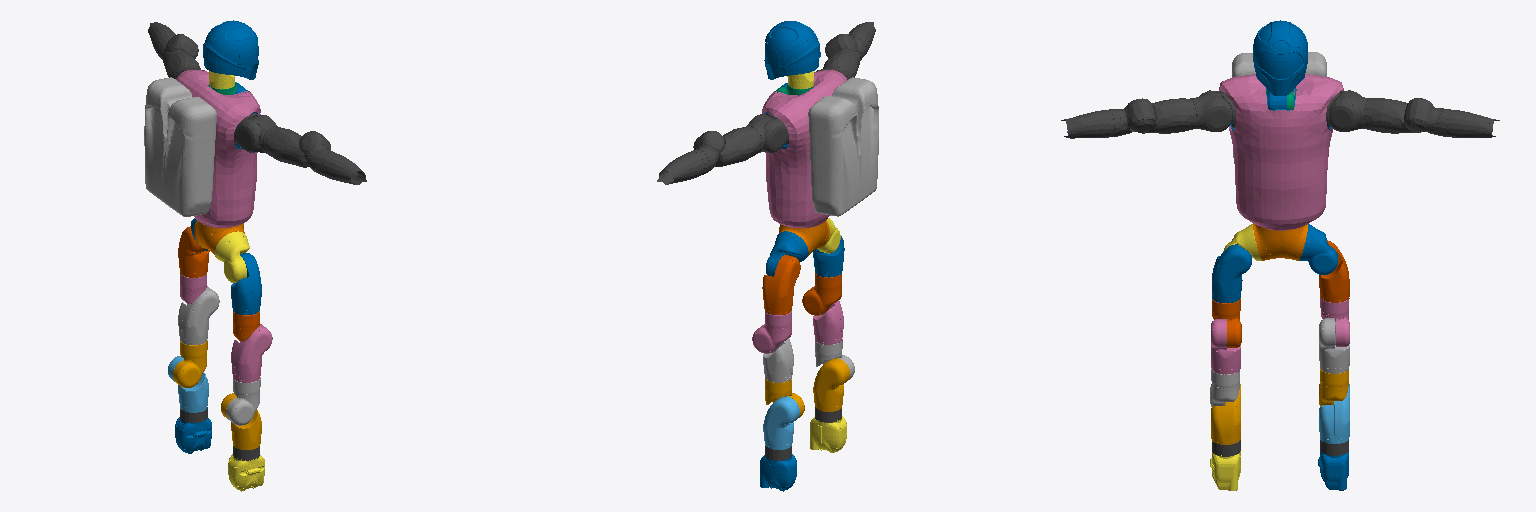
--- Render facts (derived) ---
3 views of the same robot in one strip: view 1: azimuth 30°, elevation 25°; view 2: azimuth 150°, elevation 25°; view 3: azimuth 270°, elevation 25° (orthographic).
Model r2 with 64 links and 63 joints (32 revolute, 31 fixed), rooted at r2/world_ref, posed all joints at 0 but 2 set to mid-range because 0 is outside their limits (r2/left_arm/joint2 = -2.42, r2/right_arm/joint2 = 2.42).
Links seen in each view (by area): view 1: r2/backpack, r2/body_cover, r2/head, r2/right_knee, r2/left_knee, r2/right_hip_pitch, r2/right_upper_arm, r2/right_hip_roll, r2/left_lower_leg, r2/right_lower_leg, r2/right_lower_arm, r2/left_hip_pitch (+11 smaller); view 2: r2/backpack, r2/body_cover, r2/head, r2/left_hip_pitch, r2/left_ankle_pitch, r2/right_ankle_pitch, r2/left_upper_arm, r2/left_lower_arm, r2/left_upper_leg, r2/right_upper_leg, r2/right_leg_foot, r2/left_leg_foot (+11 smaller); view 3: r2/body_cover, r2/head, r2/right_hip_pitch, r2/left_upper_arm, r2/right_upper_arm, r2/pelvis, r2/right_lower_arm, r2/left_lower_arm, r2/left_ankle_pitch, r2/left_knee, r2/right_shoulder_pitch, r2/right_ankle_pitch (+14 smaller).
Boxes of the visible links, x1,y1,x2,y2 form: r2/backpack: [144, 77, 216, 216]; r2/body_cover: [176, 70, 260, 227]; r2/head: [203, 20, 258, 79]; r2/right_knee: [231, 325, 272, 382]; r2/left_knee: [178, 287, 219, 344]; r2/right_hip_pitch: [231, 253, 261, 314]; r2/right_upper_arm: [262, 126, 330, 167]; r2/right_hip_roll: [215, 231, 249, 282]; r2/left_lower_leg: [173, 340, 207, 387]; r2/right_lower_leg: [226, 377, 260, 425]; r2/right_lower_arm: [315, 150, 366, 184]; r2/left_hip_pitch: [178, 226, 209, 277]; r2/backpack: [808, 77, 878, 216]; r2/body_cover: [762, 70, 846, 228]; r2/head: [764, 21, 820, 79]; r2/left_hip_pitch: [762, 255, 800, 314]; r2/left_ankle_pitch: [763, 396, 799, 449]; r2/right_ankle_pitch: [813, 358, 849, 411]; r2/left_upper_arm: [693, 126, 761, 166]; r2/left_lower_arm: [657, 149, 708, 184]; r2/left_upper_leg: [752, 311, 791, 353]; r2/right_upper_leg: [802, 273, 841, 315]; r2/right_leg_foot: [810, 416, 846, 452]; r2/left_leg_foot: [760, 454, 796, 491]; r2/body_cover: [1219, 74, 1343, 230]; r2/head: [1253, 20, 1307, 95]; r2/right_hip_pitch: [1212, 244, 1251, 302]; r2/left_upper_arm: [1364, 98, 1429, 133]; r2/right_upper_arm: [1130, 98, 1196, 133]; r2/pelvis: [1253, 223, 1307, 260]; r2/right_lower_arm: [1061, 109, 1120, 138]; r2/left_lower_arm: [1439, 109, 1499, 137]; r2/left_ankle_pitch: [1319, 384, 1349, 443]; r2/left_knee: [1319, 318, 1349, 373]; r2/right_shoulder_pitch: [1191, 92, 1231, 131]; r2/right_ankle_pitch: [1211, 384, 1240, 444].
Bounding box of the posed robot: 0.569 × 2 × 2.35 m (x, y, z).
31 mesh visuals loaded from 21 distinct referenced files (21 Collada DAE).

The robot description file, URDF, robot "r2":
<?xml version="1.0" ?>
<!-- =================================================================================== -->
<!-- |    This document was autogenerated by xacro from ./robots/r2b_dynamics.xacro    | -->
<!-- |    EDITING THIS FILE BY HAND IS NOT RECOMMENDED                                 | -->
<!-- =================================================================================== -->
<robot name="r2" xmlns:xacro="http://www.ros.org/wiki/xacro">
  <link name="r2/world_ref"/>
  <joint name="r2/fixed/world_ref/robot_world" type="fixed">
    <parent link="r2/world_ref"/>
    <child link="r2/robot_world"/>
    <origin rpy="0 0 0" xyz="0 0 0"/>
  </joint>
  <link name="r2/robot_world">
    <inertial>
      <mass value="0.01"/>
      <inertia ixx="0.0001" ixy="0.0" ixz="0.0" iyy="0.0001" iyz="0.0" izz="0.0001"/>
    </inertial>
  </link>
  <joint name="r2/fixed/robot_world/robot_base" type="fixed">
    <parent link="r2/robot_world"/>
    <child link="r2/robot_base"/>
    <origin rpy="0.0 3.14159 3.14159" xyz="0.0 0.0 0.0"/>
  </joint>
  <link name="r2/robot_base">
    <inertial>
      <mass value="0.01"/>
      <inertia ixx="0.0001" ixy="0.0" ixz="0.0" iyy="0.0001" iyz="0.0" izz="0.0001"/>
    </inertial>
  </link>
  <material name="white">
    <color rgba="1.0 1.0 1.0 1.0"/>
  </material>
  <material name="dirty_white">
    <color rgba="0.322 0.322 0.322 1.0"/>
  </material>
  <material name="gold">
    <color rgba=".878 .49 0.008 1"/>
  </material>
  <material name="steel">
    <color rgba=".7 .7 .7 1"/>
  </material>
  <material name="blue">
    <color rgba="0 0 0.8 1"/>
  </material>
  <joint name="r2/fixed/robot_base/waist_mass" type="fixed">
    <parent link="r2/robot_base"/>
    <child link="r2/waist_mass"/>
    <origin rpy="0.0 0 0.0" xyz="0.0 0.0 -0.086855"/>
  </joint>
  <link name="r2/waist_mass">
    <inertial>
      <mass value="4.6259465"/>
      <origin rpy="0.0 0 0.0" xyz="-0.00012809088 0.000041480778 0.039080994"/>
      <inertia ixx="0.01684448" ixy="0.00021529806" ixz="-0.0000036013959" iyy="0.017313387" iyz="0.0" izz="0.028769348"/>
    </inertial>
  </link>
  <joint name="r2/waist/joint0" type="revolute">
    <parent link="r2/robot_base"/>
    <child link="r2/waist_center"/>
    <axis xyz="0 0 1"/>
    <origin rpy="0.0 0 0.0" xyz="0.0 0.0 0.0"/>
    <dynamics damping="10.0" friction="0.0"/>
    <limit effort="10000000.0" lower="-3.14" upper="3.14" velocity="1000"/>
  </joint>
  <!--includes mass properties of all torso componenents-->
  <link name="r2/waist_center">
    <visual>
      <geometry>
        <mesh filename="package://r2_description/meshes/r2_upperbody/Body.dae"/>
      </geometry>
      <origin rpy="-1.5708 0 -1.5708" xyz="0.02 0.05 -0.5625"/>
    </visual>
    <collision>
      <geometry>
        <mesh filename="package://r2_description/meshes/r2_upperbody/Body.dae"/>
      </geometry>
      <origin rpy="-1.5708 0 -1.5708" xyz="0.02 0.05 -0.5625"/>
    </collision>
    <inertial>
      <mass value="47.770842"/>
      <origin rpy="0.0 0 0.0" xyz="-0.020473299 0.0039268948 -0.36456539"/>
      <inertia ixx="1.9926945" ixy="-0.0069480619" ixz="-0.059104048" iyy="1.8449528" iyz="0.01958974" izz="0.69736445"/>
    </inertial>
  </link>
  <joint name="r2/fixed/waist_center/robot_reference" type="fixed">
    <parent link="r2/waist_center"/>
    <child link="r2/robot_reference"/>
    <origin rpy="0.0 0 0.0" xyz="0.1234 0.0 0.0"/>
  </joint>
  <joint name="r2/fixed/waist_center/body_cover" type="fixed">
    <parent link="r2/waist_center"/>
    <child link="r2/body_cover"/>
    <origin rpy="0.0 0.0 0.0" xyz="0 0.0 0.0"/>
  </joint>
  <joint name="r2/fixed/waist_center/backpack" type="fixed">
    <parent link="r2/waist_center"/>
    <child link="r2/backpack"/>
    <origin rpy="0.0 0.0 0.0" xyz="-0.145521 0.0 -0.421894"/>
  </joint>
  <joint name="r2/fixed/waist_center/left_shoulder_jr3" type="fixed">
    <parent link="r2/waist_center"/>
    <child link="r2/left_arm/shoulder/jr3"/>
    <origin rpy="0.0 0.0 1.8326" xyz="-0.0240898 -0.0996837 -0.413899"/>
  </joint>
  <joint name="r2/fixed/waist_center/right_shoulder_jr3" type="fixed">
    <parent link="r2/waist_center"/>
    <child link="r2/right_arm/shoulder/jr3"/>
    <origin rpy="0.0 0.0 -1.83259" xyz="-0.0240898 0.0996837 -0.413899"/>
  </joint>
  <link name="r2/robot_reference">
    <inertial>
      <mass value="0.01"/>
      <inertia ixx="0.0001" ixy="0.0" ixz="0.0" iyy="0.0001" iyz="0.0" izz="0.0001"/>
    </inertial>
  </link>
  <link name="r2/body_cover">
    <visual>
      <geometry>
        <mesh filename="package://r2_description/meshes/r2_upperbody/Body_Cover.dae"/>
      </geometry>
      <origin rpy="-1.5708 0 -1.5708" xyz="0.02 0.05 -0.5625"/>
    </visual>
    <collision>
      <geometry>
        <mesh filename="package://r2_description/meshes/r2_upperbody/Body_Cover.dae"/>
      </geometry>
      <origin rpy="-1.5708 0 -1.5708" xyz="0.02 0.05 -0.5625"/>
    </collision>
    <inertial>
      <mass value="0.1"/>
      <inertia ixx="0.001" ixy="0.0" ixz="0.0" iyy="0.001" iyz="0.0" izz="0.001"/>
    </inertial>
  </link>
  <link name="r2/backpack">
    <visual>
      <geometry>
        <mesh filename="package://r2_description/meshes/r2_upperbody/Backpack.dae"/>
      </geometry>
      <origin rpy="0 0 0.25" xyz="0.145521 0.0 -0.118106"/>
    </visual>
    <collision>
      <geometry>
        <mesh filename="package://r2_description/meshes/r2_upperbody/Backpack.dae"/>
      </geometry>
      <origin rpy="0 0 0.25" xyz="0.145521 0.0 -0.118106"/>
    </collision>
    <inertial>
      <mass value="23.505356"/>
      <origin rpy="0.0 0 0.0" xyz="-0.068110236 0.00026288234 -0.015523324"/>
      <inertia ixx="0.87608758" ixy="0.0031949152" ixz="-0.0042079052" iyy="0.57168416" iyz="0.0067562903" izz="0.41612859"/>
    </inertial>
  </link>
  <link name="r2/left_arm/shoulder/jr3">
    <inertial>
      <mass value="0.01"/>
      <inertia ixx="0.0001" ixy="0.0" ixz="0.0" iyy="0.0001" iyz="0.0" izz="0.0001"/>
    </inertial>
  </link>
  <link name="r2/right_arm/shoulder/jr3">
    <inertial>
      <mass value="0.01"/>
      <inertia ixx="0.0001" ixy="0.0" ixz="0.0" iyy="0.0001" iyz="0.0" izz="0.0001"/>
    </inertial>
  </link>
  <joint name="r2/neck/joint0" type="revolute">
    <parent link="r2/waist_center"/>
    <child link="r2/neck_lower"/>
    <origin rpy=" -1.5708 0.0 0.0 " xyz=" 0.08636 -0.0285749 -0.614172 "/>
    <dynamics damping="10.0" friction="0.0"/>
    <axis xyz="0 0 1"/>
    <limit effort="10000.0" lower="-0.7" upper="0.175" velocity="1000.0"/>
  </joint>
  <link name="r2/neck_lower">
    <visual>
      <geometry>
        <mesh filename="package://r2_description/meshes/r2_upperbody/Neck_Lower.dae"/>
      </geometry>
      <origin rpy="-1.5708 1.5708 0" xyz="0.0 0.0 0.0285749"/>
    </visual>
    <inertial>
      <mass value="1.531125"/>
      <origin rpy="0 0 0" xyz="-0.044614256 0.031785824 0.021419445"/>
      <inertia ixx="0.0032988044" ixy="0.0014889073" ixz="0.0004970659" iyy="0.0050478224" iyz="-0.00036827305" izz="0.0052160286"/>
    </inertial>
    <collision>
      <geometry>
        <mesh filename="package://r2_description/meshes/r2_upperbody/Neck_Lower.dae"/>
      </geometry>
      <origin rpy="-1.5708 1.5708 0" xyz="0.0 0.0 0.0285749"/>
    </collision>
  </link>
  <joint name="r2/neck/joint1" type="revolute">
    <parent link="r2/neck_lower"/>
    <child link="r2/neck_upper"/>
    <origin rpy=" -1.5708 0.0 0.0 " xyz=" -0.0762002 0.0762004 0.028575"/>
    <dynamics damping="10.0" friction="0.0"/>
    <axis xyz="0 0 1"/>
    <limit effort="10000.0" lower="-1.22" upper="1.22" velocity="1000.0"/>
  </joint>
  <link name="r2/neck_upper">
    <visual>
      <geometry>
        <mesh filename="package://r2_description/meshes/r2_upperbody/Neck_Upper.dae"/>
      </geometry>
      <origin rpy="0 0 1.5708" xyz="0.0762002 0 -0.0762004"/>
    </visual>
    <inertial>
      <mass value="2.234558"/>
      <origin rpy="0 0 0" xyz="0.0127259 0.0072291452 0.048896507"/>
      <inertia ixx="0.0074125667" ixy="-0.00042898316" ixz="-0.0014528455" iyy="0.0080268117" iyz="-0.00076230267" izz="0.00051467581"/>
    </inertial>
    <collision>
      <geometry>
        <mesh filename="package://r2_description/meshes/r2_upperbody/Neck_Upper.dae"/>
      </geometry>
      <origin rpy="0 0 1.5708" xyz="0.0762002 0 -0.0762004"/>
    </collision>
  </link>
  <joint name="r2/neck/joint2" type="revolute">
    <parent link="r2/neck_upper"/>
    <child link="r2/head"/>
    <origin rpy=" 1.5708 0.0 0.0 " xyz="0.0508 0.0074676 0.101587"/>
    <dynamics damping="10.0" friction="0.0"/>
    <axis xyz="0 0 1"/>
    <limit effort="10000.0" lower="-0.7" upper="0.175" velocity="1000.0"/>
  </joint>
  <link name="r2/head">
    <visual>
      <geometry>
        <mesh filename="package://r2_description/meshes/r2_upperbody/Head.dae"/>
      </geometry>
      <origin rpy="0 1.5708 0" xyz="0.0 0.07 0.0074676"/>
    </visual>
    <collision>
      <geometry>
        <mesh filename="package://r2_description/meshes/r2_upperbody/Head.dae"/>
      </geometry>
      <origin rpy="0 1.5708 0" xyz="0.0 0.07 0.0074676"/>
    </collision>
    <inertial>
      <mass value="5.8503785"/>
      <origin rpy="0 0 0" xyz="0.0048289919 0.074486518 0.013796703"/>
      <inertia ixx="0.045520172" ixy="0.0076844267" ixz="0.0005272352" iyy="0.035519354" iyz="0.001323319" izz="0.044699541"/>
    </inertial>
  </link>
  <joint name="r2/left_arm/joint0" type="revolute">
    <parent link="r2/left_arm/shoulder/jr3"/>
    <child link="r2/left_shoulder_roll"/>
    <origin rpy="0.0 -1.5708 0.0" xyz="0.0054611 0.0 -0.13041"/>
    <axis xyz="0 0 1"/>
    <dynamics damping="10.0" friction="0.0"/>
    <limit effort="100.0" lower="-2.8270" upper="2.8270" velocity="1000"/>
  </joint>
  <link name="r2/left_shoulder_roll">
    <visual>
      <geometry>
        <mesh filename="package://r2_description/meshes/r2_upperbody/Left_Shoulder_Upper.dae"/>
      </geometry>
      <material name="dirty_white"/>
      <origin rpy="0.0 0.0 3.1416" xyz="0.0 0.0 -0.01274"/>
    </visual>
    <collision>
      <geometry>
        <mesh filename="package://r2_description/meshes/r2_upperbody/Left_Shoulder_Upper.dae"/>
      </geometry>
      <origin rpy="0.0 0.0 3.1416" xyz="0.0 0.0 -0.01274"/>
    </collision>
    <inertial>
      <origin xyz="0.00017093234 -0.0087284787   -0.10884506"/>
      <mass value="7.070314"/>
      <inertia ixx="0.076584602" ixy="0.000086319951" ixz="0.00054609047" iyy="0.08016999" iyz="0.0066841031" izz="0.02390013"/>
    </inertial>
  </link>
  <joint name="r2/left_arm/joint1" type="revolute">
    <parent link="r2/left_shoulder_roll"/>
    <child link="r2/left_shoulder_pitch"/>
    <origin rpy=" 0.0 -1.5708 1.5708" xyz=" 0.0 0.0466596 0.210022 "/>
    <axis xyz="0 0 1"/>
    <dynamics damping="10.0" friction="0.0"/>
    <limit effort="100.0" lower="-1.6758" upper="0.4292" velocity="1000"/>
  </joint>
  <link name="r2/left_shoulder_pitch">
    <visual>
      <geometry>
        <mesh filename="package://r2_description/meshes/r2_upperbody/Left_Shoulder_Lower.dae"/>
      </geometry>
      <material name="dirty_white"/>
      <origin rpy="0.0 0.0 0.0" xyz="0.0 0.0 0.0466596"/>
    </visual>
    <collision>
      <geometry>
        <mesh filename="package://r2_description/meshes/r2_upperbody/Left_Shoulder_Lower.dae"/>
      </geometry>
      <origin rpy="0.0 0.0 0.0" xyz="0.0 0.0 0.0466596"/>
    </collision>
    <inertial>
      <origin xyz="0.034871718 0.00026989995  -0.056391797"/>
      <mass value="4.7275387"/>
      <inertia ixx="0.01281093" ixy="-0.000025211205" ixz="-0.0019887882" iyy="0.026994354" iyz="-0.000056988895" izz="0.028670313"/>
    </inertial>
  </link>
  <joint name="r2/left_arm/joint2" type="revolute">
    <parent link="r2/left_shoulder_pitch"/>
    <child link="r2/left_upper_arm"/>
    <origin rpy="-1.5708 0.0 -1.5708" xyz="0.169324 0 0.0458976"/>
    <axis xyz="0 0 1"/>
    <dynamics damping="10.0" friction="0.0"/>
    <limit effort="100.0" lower="-4.5028" upper="-0.3318" velocity="1000"/>
  </joint>
  <link name="r2/left_upper_arm">
    <visual>
      <geometry>
        <mesh filename="package://r2_description/meshes/r2_upperbody/Left_Upper_Arm.dae"/>
      </geometry>
      <material name="dirty_white"/>
      <origin rpy="0.0 0.0 0.0" xyz="0.0 0.0 -0.067724"/>
    </visual>
    <collision>
      <geometry>
        <mesh filename="package://r2_description/meshes/r2_upperbody/Left_Upper_Arm.dae"/>
      </geometry>
      <origin rpy="0.0 0.0 0.0" xyz="0.0 0.0 -0.067724"/>
    </collision>
    <inertial>
      <origin xyz="0.011979384 -0.0073390714 0.079871897"/>
      <mass value="4.9025709"/>
      <inertia ixx="0.044036190" ixy="0.0013812407" ixz="-0.0068318982" iyy="0.048358309" iyz="0.0035598559" izz="0.016564943"/>
    </inertial>
  </link>
  <joint name="r2/left_arm/joint3" type="revolute">
    <parent link="r2/left_upper_arm"/>
    <child link="r2/left_elbow"/>
    <origin rpy="0.0 -1.5708 1.5708" xyz="0.05334 0.0313243 0.185006"/>
    <axis xyz="0 0 1"/>
    <dynamics damping="1.0" friction="0.0"/>
    <limit effort="100.0" lower="-2.7930" upper="0.0" velocity="1000"/>
  </joint>
  <link name="r2/left_elbow">
    <visual>
      <geometry>
        <mesh filename="package://r2_description/meshes/r2_upperbody/Left_Elbow.dae"/>
      </geometry>
      <material name="dirty_white"/>
      <origin rpy="0 0.0 0" xyz="0 0 0.0313243"/>
    </visual>
    <collision>
      <geometry>
        <mesh filename="package://r2_description/meshes/r2_upperbody/Left_Elbow.dae"/>
      </geometry>
      <origin rpy="0 0.0 0" xyz="0.0 0.0 0.0313243"/>
    </collision>
    <inertial>
      <origin xyz="0.035398630 0.025517855  -0.036241795"/>
      <mass value="2.3377006"/>
      <inertia ixx="0.0067529558" ixy="-0.0026092481" ixz="-0.00060380235" iyy="0.0080987220" iyz="-0.00047453566" izz="0.009863562"/>
    </inertial>
  </link>
  <joint name="r2/left_arm/joint4" type="revolute">
    <parent link="r2/left_elbow"/>
    <child link="r2/left_joint4_output"/>
    <origin rpy="-0.9550 1.5708 -0.9550" xyz="0.0541223 0.0533300 0.0305397"/>
    <axis xyz="0 0 1"/>
    <dynamics damping="1.0" friction="0.0"/>
    <limit effort="100.0" lower="-1.5360" upper="4.6770" velocity="1000"/>
  </joint>
  <link name="r2/left_joint4_output">
    <inertial>
      <mass value="0.01"/>
      <inertia ixx="0.0001" ixy="0.0" ixz="0.0" iyy="0.0001" iyz="0.0" izz="0.0001"/>
    </inertial>
  </link>
  <joint name="r2/fixed/left_lower_arm/left_forearm_jr3" type="fixed">
    <parent link="r2/left_joint4_output"/>
    <child link="r2/left_arm/forearm/jr3"/>
    <origin rpy="3.1416 0.0 0.78539" xyz="0.0 0.0 0.0897574"/>
  </joint>
  <link name="r2/left_arm/forearm/jr3">
    <inertial>
      <mass value="0.01"/>
      <inertia ixx="0.0001" ixy="0.0" ixz="0.0" iyy="0.0001" iyz="0.0" izz="0.0001"/>
    </inertial>
  </link>
  <joint name="r2/fixed/left_lower_arm/left_forearm" type="fixed">
    <parent link="r2/left_arm/forearm/jr3"/>
    <child link="r2/left_lower_arm"/>
    <origin rpy="3.1416 0.0 0.7854" xyz="0.0 0.0 0.0897574"/>
  </joint>
  <link name="r2/left_lower_arm">
    <visual>
      <geometry>
        <mesh filename="package://r2_description/meshes/r2_upperbody/Left_Forearm.dae"/>
      </geometry>
      <origin rpy="0 0 1.5708" xyz="0 0.0 0.0458777"/>
      <material name="dirty_white"/>
    </visual>
    <collision>
      <geometry>
        <mesh filename="package://r2_description/meshes/r2_upperbody/Left_Forearm.dae"/>
      </geometry>
      <origin rpy="0 0 1.5708" xyz="0 0.0 0.0458777"/>
    </collision>
    <inertial>
      <origin xyz="0.0039950818 0.00044312736  0.16275601"/>
      <mass value="8.1525875"/>
      <inertia ixx="0.10706156" ixy="0.00070538028" ixz="-0.0061176777" iyy="0.11007507" iyz="0.0020551081" izz="0.015240452"/>
    </inertial>
  </link>
  <joint name="r2/left_arm/wrist/pitch" type="revolute">
    <parent link="r2/left_lower_arm"/>
    <child link="r2/left_wrist_pitch"/>
    <origin rpy="0 -1.5708 0.0 " xyz="-0.000616510 0 0.301768"/>
    <axis xyz="0 0 1"/>
    <dynamics damping="1.0" friction="0.0"/>
    <limit effort="100.0" lower="-0.9" upper="0.94" velocity="1000"/>
  </joint>
  <link name="r2/left_wrist_pitch">
    <inertial>
      <origin xyz="0.0  0.0  0.0"/>
      <mass value="0.01"/>
      <inertia ixx="0.0001" ixy="0.0" ixz="0.0" iyy="0.0001" iyz="0.0" izz="0.0001"/>
    </inertial>
  </link>
  <joint name="r2/left_arm/wrist/yaw" type="revolute">
    <parent link="r2/left_wrist_pitch"/>
    <child link="r2/left_wrist_yaw"/>
    <origin rpy="1.5708 0.0652 -0.0802" xyz="0.00635 0 -0.00041451"/>
    <axis xyz="0 0 1"/>
    <dynamics damping="1.0" friction="0.0"/>
    <limit effort="100.0" lower="-0.72" upper="0.23" velocity="1000"/>
  </joint>
  <link name="r2/left_wrist_yaw">
    <inertial>
      <origin xyz="0.0  0.0  0.0"/>
      <mass value="0.01"/>
      <inertia ixx="0.0001" ixy="0.0" ixz="0.0" iyy="0.0001" iyz="0.0" izz="0.0001"/>
    </inertial>
  </link>
  <joint name="r2/fixed/left_index_base/left_index_base" type="fixed">
    <parent link="r2/left_wrist_yaw"/>
    <child link="r2/left_index_base"/>
    <origin rpy=" 0.0 0.0 0.122172725275 " xyz=" 0.0994646728 0.0271119346 -0.0161544 "/>
  </joint>
  <link name="r2/left_index_base">
    <inertial>
      <mass value=".0010"/>
      <inertia ixx=".0010" ixy="0.0" ixz="0.0" iyy=".0010" iyz="0.0" izz=".0010"/>
    </inertial>
  </link>
  <joint name="r2/right_arm/joint0" type="revolute">
    <parent link="r2/right_arm/shoulder/jr3"/>
    <child link="r2/right_shoulder_roll"/>
    <origin rpy="0.0 -1.5708 0.0" xyz="0.0054611 0.0 -0.13041"/>
    <axis xyz="0 0 1"/>
    <dynamics damping="10.0" friction="0.0"/>
    <limit effort="100.0" lower="-2.8270" upper="2.8270" velocity="1000"/>
  </joint>
  <link name="r2/right_shoulder_roll">
    <visual>
      <geometry>
        <mesh filename="package://r2_description/meshes/r2_upperbody/Right_Shoulder_Upper.dae"/>
      </geometry>
      <material name="dirty_white"/>
      <origin rpy="0.0 0.0 -2.4624" xyz="0.0 0.0 -0.07734"/>
    </visual>
    <collision>
      <geometry>
        <mesh filename="package://r2_description/meshes/r2_upperbody/Right_Shoulder_Upper.dae"/>
      </geometry>
      <origin rpy="0.0 0.0 -2.4624" xyz="0.0 0.0 -0.07234"/>
    </collision>
    <inertial>
      <origin xyz="0.00017093234 -0.0087284787   -0.10884506"/>
      <mass value="8.820314"/>
      <inertia ixx="0.076584602" ixy="0.000086319951" ixz="0.00054609047" iyy="0.08016999" iyz="0.0066841031" izz="0.02390013"/>
    </inertial>
  </link>
  <joint name="r2/right_arm/joint1" type="revolute">
    <parent link="r2/right_shoulder_roll"/>
    <child link="r2/right_shoulder_pitch"/>
    <origin rpy=" 0.0 -1.5708 1.5708" xyz=" 0.0 -0.0466596 0.215143 "/>
    <axis xyz="0 0 1"/>
    <dynamics damping="10.0" friction="0.0"/>
    <limit effort="100.0" lower="-1.6758" upper="0.4292" velocity="1000"/>
  </joint>
  <link name="r2/right_shoulder_pitch">
    <visual>
      <geometry>
        <mesh filename="package://r2_description/meshes/r2_upperbody/Right_Shoulder_Lower.dae"/>
      </geometry>
      <material name="dirty_white"/>
      <origin rpy="0.0 0.0 0.0" xyz="0.0 0.0 -0.0466596"/>
    </visual>
    <collision>
      <geometry>
        <mesh filename="package://r2_description/meshes/r2_upperbody/Right_Shoulder_Lower.dae"/>
      </geometry>
      <origin rpy="0.0 0.0 0.0" xyz="0.0 0.0 -0.0466596"/>
    </collision>
    <inertial>
      <origin xyz="0.034871718 0.00026989995  -0.056391797"/>
      <mass value="4.9775387"/>
      <inertia ixx="0.01281093" ixy="-0.000025211205" ixz="-0.0019887882" iyy="0.026994354" iyz="-0.000056988895" izz="0.028670313"/>
    </inertial>
  </link>
  <joint name="r2/right_arm/joint2" type="revolute">
    <parent link="r2/right_shoulder_pitch"/>
    <child link="r2/right_upper_arm"/>
    <origin rpy="-1.5708 0.0 -1.5708" xyz="0.169324 0 -0.0458976"/>
    <axis xyz="0 0 1"/>
    <dynamics damping="10.0" friction="0.0"/>
    <limit effort="100.0" lower="0.3318" upper="4.5028" velocity="1000"/>
  </joint>
  <link name="r2/right_upper_arm">
    <visual>
      <geometry>
        <mesh filename="package://r2_description/meshes/r2_upperbody/Right_Upper_Arm.dae"/>
      </geometry>
      <material name="dirty_white"/>
      <origin rpy="0.0 0.0 0.0" xyz="0.0 0.0 -0.067724"/>
    </visual>
    <collision>
      <geometry>
        <mesh filename="package://r2_description/meshes/r2_upperbody/Right_Upper_Arm.dae"/>
      </geometry>
      <origin rpy="0.0 0.0 0.0" xyz="0.0 0.0 -0.067724"/>
    </collision>
    <inertial>
      <origin xyz="0.011979384 -0.0073390714 0.079871897"/>
      <mass value="6.1525709"/>
      <inertia ixx="0.044036190" ixy="0.0013812407" ixz="-0.0068318982" iyy="0.048358309" iyz="0.0035598559" izz="0.016564943"/>
    </inertial>
  </link>
  <joint name="r2/right_arm/joint3" type="revolute">
    <parent link="r2/right_upper_arm"/>
    <child link="r2/right_elbow"/>
    <origin rpy="0.0 -1.5708 1.5708" xyz="0.05334 -0.0313243 0.185006"/>
    <axis xyz="0 0 1"/>
    <dynamics damping="1.0" friction="0.0"/>
    <limit effort="100.0" lower="-2.7930" upper="0.0" velocity="1000"/>
  </joint>
  <link name="r2/right_elbow">
    <visual>
      <geometry>
        <mesh filename="package://r2_description/meshes/r2_upperbody/Right_Elbow.dae"/>
      </geometry>
      <material name="dirty_white"/>
      <origin rpy="0 0.0 0" xyz="0 0 -0.0313243"/>
    </visual>
    <collision>
      <geometry>
        <mesh filename="package://r2_description/meshes/r2_upperbody/Right_Elbow.dae"/>
      </geometry>
      <origin rpy="0 0.0 0" xyz="0 0 -0.0313243"/>
    </collision>
    <inertial>
      <origin xyz="0.035398630 0.025517855  -0.036241795"/>
      <mass value="2.3377006"/>
      <inertia ixx="0.0067529558" ixy="-0.0026092481" ixz="-0.00060380235" iyy="0.0080987220" iyz="-0.00047453566" izz="0.009863562"/>
    </inertial>
  </link>
  <joint name="r2/right_arm/joint4" type="revolute">
    <parent link="r2/right_elbow"/>
    <child link="r2/right_joint4_output"/>
    <origin rpy="-0.9550 1.5708 -0.9550" xyz="0.0541223 0.0533300 -0.0305397"/>
    <axis xyz="0 0 1"/>
    <dynamics damping="1.0" friction="0.0"/>
    <limit effort="100.0" lower="-4.6770" upper="1.5360" velocity="1000"/>
  </joint>
  <link name="r2/right_joint4_output">
    <inertial>
      <mass value="0.01"/>
      <inertia ixx="0.0001" ixy="0.0" ixz="0.0" iyy="0.0001" iyz="0.0" izz="0.0001"/>
    </inertial>
  </link>
  <joint name="r2/fixed/right_lower_arm/right_forearm_jr3" type="fixed">
    <parent link="r2/right_joint4_output"/>
    <child link="r2/right_arm/forearm/jr3"/>
    <origin rpy="3.1416 0.0 0.78539" xyz="0.0 0.0 0.1435038 "/>
  </joint>
  <link name="r2/right_arm/forearm/jr3">
    <inertial>
      <mass value="0.01"/>
      <inertia ixx="0.0001" ixy="0.0" ixz="0.0" iyy="0.0001" iyz="0.0" izz="0.0001"/>
    </inertial>
  </link>
  <joint name="r2/fixed/right_lower_arm/right_forearm" type="fixed">
    <parent link="r2/right_arm/forearm/jr3"/>
    <child link="r2/right_lower_arm"/>
    <origin rpy="3.1416 0.0 0.7854" xyz="0.0 0.0 0.1435"/>
  </joint>
  <link name="r2/right_lower_arm">
    <visual>
      <geometry>
        <mesh filename="package://r2_description/meshes/r2_upperbody/Right_Forearm.dae"/>
      </geometry>
      <material name="dirty_white"/>
      <origin rpy="0 0 1.5708" xyz="0 0.0 0.0458777"/>
    </visual>
    <collision>
      <geometry>
        <mesh filename="package://r2_description/meshes/r2_upperbody/Right_Forearm.dae"/>
      </geometry>
      <origin rpy="0 0 1.5708" xyz="0 0.0 0.0458777"/>
    </collision>
    <inertial>
      <origin xyz="0.0039950818 0.00044312736  0.16275601"/>
      <mass value="8.1525875"/>
      <inertia ixx="0.10706156" ixy="0.00070538028" ixz="-0.0061176777" iyy="0.11007507" iyz="0.0020551081" izz="0.015240452"/>
    </inertial>
  </link>
  <joint name="r2/right_arm/wrist/pitch" type="revolute">
    <parent link="r2/right_lower_arm"/>
    <child link="r2/right_wrist_pitch"/>
    <origin rpy="0 -1.5708 0" xyz="-0.000616510 0 0.301768"/>
    <axis xyz="0 0 1"/>
    <dynamics damping="1.0" friction="0.0"/>
    <limit effort="100.0" lower="-0.9" upper="0.94" velocity="1000"/>
  </joint>
  <link name="r2/right_wrist_pitch">
    <inertial>
      <origin xyz="0.0 0.0 0.0"/>
      <mass value="0.01"/>
      <inertia ixx=".0001" ixy="0.0" ixz="0.0" iyy="0.0001" iyz="0.0" izz="0.0001"/>
    </inertial>
  </link>
  <joint name="r2/right_arm/wrist/yaw" type="revolute">
    <parent link="r2/right_wrist_pitch"/>
    <child link="r2/right_wrist_yaw"/>
    <origin rpy="1.5708 0.0652 -0.0802" xyz="0.00635 0 -0.00041451"/>
    <axis xyz="0 0 1"/>
    <dynamics damping="1.0" friction="0.0"/>
    <limit effort="100.0" lower="-0.23" upper="0.72" velocity="1000"/>
  </joint>
  <link name="r2/right_wrist_yaw">
    <inertial>
      <origin xyz="0.0 0.0 0.0"/>
      <mass value="0.01"/>
      <inertia ixx="0.0001" ixy="0.0" ixz="0.0" iyy="0.0001" iyz="0.0" izz="0.0001"/>
    </inertial>
  </link>
  <joint name="r2/fixed/right_index_base/right_index_base" type="fixed">
    <parent link="r2/right_wrist_yaw"/>
    <child link="r2/right_index_base"/>
    <origin rpy=" 0.0 0.0 -0.122172725275  " xyz=" 0.0994646728 -0.0271119346 -0.0161544 "/>
  </joint>
  <link name="r2/right_index_base">
    <inertial>
      <mass value=".05"/>
      <inertia ixx=".0010" ixy="0.0" ixz="0.0" iyy=".0010" iyz="0.0" izz=".0010"/>
    </inertial>
  </link>
  <link name="r2/pelvis">
    <inertial>
      <mass value="12.2831"/>
      <inertia ixx="0.10679" ixy="0.00009239" ixz="-0.00002105" iyy="0.05595" iyz="0.0" izz="0.1022"/>
      <origin rpy="0 0 0" xyz="0.00001909 0.0 -0.008524"/>
    </inertial>
    <visual>
      <geometry>
        <mesh filename="package://r2_description/meshes/r2c_legs/r2cl_ext_pelvis.dae"/>
      </geometry>
      <material name="gold"/>
      <origin rpy="0 0 0" xyz="0 0 0"/>
    </visual>
    <collision>
      <geometry>
        <mesh filename="package://r2_description/meshes/r2c_legs/r2cl_ext_pelvis.dae"/>
      </geometry>
      <origin rpy="0 0 0" xyz="0 0 0"/>
    </collision>
  </link>
  <joint name="r2/fixed/robot_base/pelvis" type="fixed">
    <parent link="r2/robot_base"/>
    <child link="r2/pelvis"/>
    <origin rpy="0 3.14159 0" xyz="0 0 0.098"/>
  </joint>
  <joint name="r2/fixed/pelvis/left_leg_base" type="fixed">
    <parent link="r2/pelvis"/>
    <child link="r2/left_leg_base"/>
    <origin rpy="0 0.000000 1.570796" xyz="0.0 0 0.0"/>
  </joint>
  <link name="r2/left_leg_base">
    <inertial>
      <mass value="0.01"/>
      <inertia ixx="0.0001" ixy="0.0" ixz="0.0" iyy="0.0001" iyz="0.0" izz="0.0001"/>
    </inertial>
  </link>
  <joint name="r2/fixed/left_leg_base/left_leg_j0_base" type="fixed">
    <parent link="r2/left_leg_base"/>
    <child link="r2/left_leg_j0_base"/>
    <origin rpy="0.0 1.8325957 3.14159" xyz="-0.1104900 0.0 -0.0297180"/>
  </joint>
  <link name="r2/left_leg_j0_base">
    <inertial>
      <mass value="0.01"/>
      <inertia ixx="0.0001" ixy="0.0" ixz="0.0" iyy="0.0001" iyz="0.0" izz="0.0001"/>
    </inertial>
  </link>
  <joint name="r2/left_leg/joint0" type="revolute">
    <parent link="r2/left_leg_j0_base"/>
    <child link="r2/left_hip_roll"/>
    <origin rpy="0.0 0 0" xyz="0 0 0"/>
    <axis xyz="0 0 1"/>
    <dynamics damping="10.0" friction="0.0"/>
    <limit effort="330.0" lower="-3.14159" upper="3.14159" velocity="1.0"/>
    <traits spring_k="2.5"/>
  </joint>
  <link name="r2/left_hip_roll">
    <inertial>
      <mass value="2.5410"/>
      <inertia ixx="0.006434" ixy="0.0007087" ixz="-0.001543" iyy="0.009325" iyz="0.0008694" izz="0.006904"/>
      <origin rpy="0.0 0.0 0.0" xyz="0.03372 -0.02428 0.07903"/>
    </inertial>
    <visual>
      <geometry>
        <mesh filename="package://r2_description/meshes/r2c_legs/r2cl_ext_bone3.dae"/>
      </geometry>
      <origin rpy="0 0 0" xyz="0.0 0.0 0.0"/>
    </visual>
    <collision>
      <geometry>
        <mesh filename="package://r2_description/meshes/r2c_legs/r2cl_ext_bone3.dae"/>
      </geometry>
      <origin rpy="0 0 0" xyz="0.0 0.0 0.0"/>
    </collision>
  </link>
  <joint name="r2/left_leg/joint1" type="revolute">
    <parent link="r2/left_hip_roll"/>
    <child link="r2/left_hip_pitch"/>
    <origin rpy="-1.570796  -0.2617994 0.0000000" xyz="0.050629765 +0.0022860 0.103498576"/>
    <axis xyz="0 0 1"/>
    <dynamics damping="5.0" friction="0.0"/>
    <limit effort="330.0" lower="-1.42244" upper="1.20427" velocity="1.0"/>
    <traits spring_k="2.5"/>
  </joint>
  <link name="r2/left_hip_pitch">
    <inertial>
      <mass value="4.6734"/>
      <inertia ixx="0.01002" ixy="0.007194" ixz="0.002041" iyy="0.03307" iyz="-0.0007281" izz="0.03728"/>
      <origin rpy="0 0 0" xyz="0.09450 -0.03354 0.008185"/>
    </inertial>
    <visual>
      <geometry>
        <mesh filename="package://r2_description/meshes/r2c_legs/r2cl_ext_bone1.dae"/>
      </geometry>
      <origin rpy="0 0 0" xyz="0 0 0"/>
    </visual>
    <collision>
      <geometry>
        <mesh filename="package://r2_description/meshes/r2c_legs/r2cl_ext_bone1.dae"/>
      </geometry>
      <origin rpy="0 0 0" xyz="0 0 0"/>
    </collision>
  </link>
  <joint name="r2/left_leg/joint2" type="revolute">
    <parent link="r2/left_hip_pitch"/>
    <child link="r2/left_upper_leg"/>
    <origin rpy=" 1.570796 0.0 1.570796" xyz="0.200 -0.050 0.004"/>
    <axis xyz="0 0 1"/>
    <dynamics damping="5.0" friction="0.0"/>
    <limit effort="330.0" lower="-3.14159" upper="3.14159" velocity="1.0"/>
    <traits spring_k="2.5"/>
  </joint>
  <link name="r2/left_upper_leg">
    <inertial>
      <mass value="3.7745"/>
      <inertia ixx="0.02163" ixy="-0.001453" ixz="0.003137" iyy="0.01832" iyz="0.004738" izz="0.009798"/>
      <origin rpy="0 0 0" xyz="-0.01485 -0.02188 0.09676"/>
    </inertial>
    <visual>
      <geometry>
        <mesh filename="package://r2_description/meshes/r2c_legs/r2cl_ext_bone2.dae"/>
      </geometry>
      <origin rpy="0 0 0" xyz="0 0 0"/>
    </visual>
    <collision>
      <geometry>
        <mesh filename="package://r2_description/meshes/r2c_legs/r2cl_ext_bone2.dae"/>
      </geometry>
      <origin rpy="0 0 0" xyz="0 0 0"/>
    </collision>
  </link>
  <joint name="r2/left_leg/joint3" type="revolute">
    <parent link="r2/left_upper_leg"/>
    <child link="r2/left_knee"/>
    <origin rpy="0.0 -1.570796 3.14159" xyz="-0.002 -0.050 0.157"/>
    <axis xyz="0 0 1"/>
    <dynamics damping="5.0" friction="0.0"/>
    <limit effort="330.0" lower="-0.10472" upper="2.68781" velocity="1.0"/>
    <traits spring_k="2.5"/>
  </joint>
  <link name="r2/left_knee">
    <inertial>
      <mass value="4.6734"/>
      <inertia ixx="0.01002" ixy="0.007194" ixz="0.002041" iyy="0.03307" iyz="-0.0007281" izz="0.03728"/>
      <origin rpy="0 0 0" xyz="0.09450 -0.03354 0.008185"/>
    </inertial>
    <visual>
      <geometry>
        <mesh filename="package://r2_description/meshes/r2c_legs/r2cl_ext_bone1.dae"/>
      </geometry>
      <origin rpy="0 0 0" xyz="0 0 0"/>
    </visual>
    <collision>
      <geometry>
        <mesh filename="package://r2_description/meshes/r2c_legs/r2cl_ext_bone1.dae"/>
      </geometry>
      <material name="gold"/>
      <origin rpy="0 0 0" xyz="0 0 0"/>
    </collision>
  </link>
  <joint name="r2/left_leg/joint4" type="revolute">
    <parent link="r2/left_knee"/>
    <child link="r2/left_lower_leg"/>
    <origin rpy="0 1.570796 0" xyz="0.200 -0.050 0.004"/>
    <axis xyz="0 0 1"/>
    <dynamics damping="5.0" friction="0.0"/>
    <limit effort="330.0" lower="-3.14159" upper="3.14159" velocity="1.0"/>
    <traits spring_k="2.5"/>
  </joint>
  <link name="r2/left_lower_leg">
    <inertial>
      <mass value="3.7745"/>
      <inertia ixx="0.02163" ixy="-0.001453" ixz="0.003137" iyy="0.01832" iyz="0.004738" izz="0.009798"/>
      <origin rpy="0 0 0" xyz="-0.01485 -0.02188 0.09676"/>
    </inertial>
    <visual>
      <geometry>
        <mesh filename="package://r2_description/meshes/r2c_legs/r2cl_ext_bone2.dae"/>
      </geometry>
      <origin rpy="0 0 0" xyz="0 0 0"/>
    </visual>
    <collision>
      <geometry>
        <mesh filename="package://r2_description/meshes/r2c_legs/r2cl_ext_bone2.dae"/>
      </geometry>
      <origin rpy="0 0 0" xyz="0 0 0"/>
    </collision>
  </link>
  <joint name="r2/left_leg/joint5" type="revolute">
    <parent link="r2/left_lower_leg"/>
    <child link="r2/left_ankle_pitch"/>
    <origin rpy="0.0 -1.570796 3.14159" xyz="-0.002 -0.050 0.157"/>
    <axis xyz="0 0 1"/>
    <dynamics damping="5.0" friction="0.0"/>
    <limit effort="330.0" lower="-0.10472" upper="2.68781" velocity="1.0"/>
    <traits spring_k="2.5"/>
  </joint>
  <link name="r2/left_ankle_pitch">
    <inertial>
      <mass value="4.6734"/>
      <inertia ixx="0.01002" ixy="0.007194" ixz="0.002041" iyy="0.03307" iyz="-0.0007281" izz="0.03728"/>
      <origin rpy="0 0 0" xyz="0.09450 -0.03354 0.008185"/>
    </inertial>
    <visual>
      <geometry>
        <mesh filename="package://r2_description/meshes/r2c_legs/r2cl_ext_bone1.dae"/>
      </geometry>
      <origin rpy="0 0 0" xyz="0 0 0"/>
    </visual>
    <collision>
      <geometry>
        <mesh filename="package://r2_description/meshes/r2c_legs/r2cl_ext_bone1.dae"/>
      </geometry>
      <origin rpy="0 0 0" xyz="0 0 0"/>
    </collision>
  </link>
  <joint name="r2/left_leg/joint6" type="revolute">
    <parent link="r2/left_ankle_pitch"/>
    <child link="r2/left_ankle_roll"/>
    <origin rpy="3.14159 -1.570796 0" xyz="0.199643 -0.0508 0.00325"/>
    <axis xyz="0 0 1"/>
    <dynamics damping="5.0" friction="0.0"/>
    <limit effort="330.0" lower="-3.14159" upper="3.14159" velocity="1.0"/>
    <traits spring_k="2.5"/>
  </joint>
  <link name="r2/left_ankle_roll">
    <inertial>
      <mass value="1.4461"/>
      <inertia ixx="0.001780" ixy="0.00001801" ixz="0.0000002218" iyy="0.001767" iyz="0.0000006717" izz="0.002949"/>
      <origin rpy="0 0 0" xyz="-0.00004402 0.0001052 0.02940"/>
    </inertial>
    <visual>
      <geometry>
        <cylinder length=".06" radius=".066"/>
      </geometry>
      <material name="dirty_white"/>
      <origin rpy="0 0 0" xyz="0 0 0.025"/>
    </visual>
    <collision>
      <geometry>
        <cylinder length=".06" radius=".066"/>
      </geometry>
      <origin rpy="0 0 0" xyz="0 0 0.025"/>
    </collision>
  </link>
  <joint name="r2/fixed/left_ankle_roll/left_leg_ati" type="fixed">
    <parent link="r2/left_ankle_roll"/>
    <child link="r2/left_leg/ati"/>
    <origin rpy="3.1416 0.0 -1.5708" xyz="0.0 0.0 0.070182"/>
  </joint>
  <link name="r2/left_leg/ati">
    <inertial>
      <mass value="0.01"/>
      <inertia ixx="0.0001" ixy="0.0" ixz="0.0" iyy="0.0001" iyz="0.0" izz="0.0001"/>
    </inertial>
  </link>
  <joint name="r2/fixed/left_leg_ati/left_leg_foot" type="fixed">
    <parent link="r2/left_leg/ati"/>
    <child link="r2/left_leg_foot"/>
    <origin rpy="3.1416 0.0 -1.5708" xyz="0.0 0.0 0.0206502"/>
  </joint>
  <link name="r2/left_leg_foot">
    <inertial>
      <mass value="4.63812"/>
      <inertia ixx="0.01951" ixy="-0.00030332" ixz="-0.00011945" iyy="0.017896" iyz="-0.000689634" izz="0.010101"/>
      <origin rpy="0 0 0" xyz="-0.0015 -0.00021835 0.08493"/>
    </inertial>
    <visual>
      <geometry>
        <mesh filename="package://r2_description/meshes/r2c_legs/foot_body.dae"/>
      </geometry>
      <origin rpy="0 0 -1.5708" xyz="0 0 0"/>
    </visual>
    <collision>
      <geometry>
        <mesh filename="package://r2_description/meshes/r2c_legs/foot_body.dae"/>
      </geometry>
      <origin rpy="0 0 -1.5708" xyz="0 0 0"/>
    </collision>
  </link>
  <joint name="r2/fixed/left_leg_foot/left_hr_tip" type="fixed">
    <parent link="r2/left_leg_foot"/>
    <child link="r2/left_leg/gripper/tip"/>
    <origin rpy="0.0 0 0" xyz="0 0 0.19451"/>
  </joint>
  <link name="r2/left_leg/gripper/tip">
    <inertial>
      <mass value="0.01"/>
      <inertia ixx="0.0001" ixy="0.0" ixz="0.0" iyy="0.0001" iyz="0.0" izz="0.0001"/>
    </inertial>
  </link>
  <joint name="r2/fixed/left_leg_foot/left_st_tip" type="fixed">
    <parent link="r2/left_leg_foot"/>
    <child link="r2/left_leg/gripper/st_tip"/>
    <origin rpy="0.0 0 0" xyz="0 0 0.21991"/>
  </joint>
  <link name="r2/left_leg/gripper/st_tip">
    <inertial>
      <mass value="0.01"/>
      <inertia ixx="0.0001" ixy="0.0" ixz="0.0" iyy="0.0001" iyz="0.0" izz="0.0001"/>
    </inertial>
  </link>
  <joint name="r2/fixed/left_leg_foot/left_leg_nano_physical" type="fixed">
    <parent link="r2/left_leg_foot"/>
    <child link="r2/left_leg/nano_physical"/>
    <origin rpy="0 0 0" xyz="-0.025 .07 0.13"/>
  </joint>
  <link name="r2/left_leg/nano_physical">
    <inertial>
      <mass value="0.01"/>
      <inertia ixx="0.0001" ixy="0.0" ixz="0.0" iyy="0.0001" iyz="0.0" izz="0.0001"/>
    </inertial>
  </link>
  <joint name="r2/fixed/left_leg_foot/left_leg_flea_physical" type="fixed">
    <parent link="r2/left_leg_foot"/>
    <child link="r2/left_leg/flea_physical"/>
    <origin rpy="0.0 0 0" xyz="0.025 .07 0.13"/>
  </joint>
  <link name="r2/left_leg/flea_physical">
    <inertial>
      <mass value="0.01"/>
      <inertia ixx="0.0001" ixy="0.0" ixz="0.0" iyy="0.0001" iyz="0.0" izz="0.0001"/>
    </inertial>
  </link>
  <joint name="r2/fixed/pelvis/right_leg_base" type="fixed">
    <parent link="r2/pelvis"/>
    <child link="r2/right_leg_base"/>
    <origin rpy="0 0.000000 1.570796" xyz="0.0 0 0.0"/>
  </joint>
  <link name="r2/right_leg_base">
    <inertial>
      <mass value="0.01"/>
      <inertia ixx="0.0001" ixy="0.0" ixz="0.0" iyy="0.0001" iyz="0.0" izz="0.0001"/>
    </inertial>
  </link>
  <joint name="r2/fixed/right_leg_base/right_leg_j0_base" type="fixed">
    <parent link="r2/right_leg_base"/>
    <child link="r2/right_leg_j0_base"/>
    <origin rpy="0.0 1.8325957 0.0" xyz="0.1104900 0.0 -0.0297180"/>
  </joint>
  <link name="r2/right_leg_j0_base">
    <inertial>
      <mass value="0.01"/>
      <inertia ixx="0.0001" ixy="0.0" ixz="0.0" iyy="0.0001" iyz="0.0" izz="0.0001"/>
    </inertial>
  </link>
  <joint name="r2/right_leg/joint0" type="revolute">
    <parent link="r2/right_leg_j0_base"/>
    <child link="r2/right_hip_roll"/>
    <origin rpy="0.0 0.0 0.0" xyz="0 0 0"/>
    <axis xyz="0 0 1"/>
    <dynamics damping="10.0" friction="0.0"/>
    <limit effort="330.0" lower="-3.14159" upper="3.14159" velocity="1.0"/>
    <traits spring_k="2.5"/>
  </joint>
  <link name="r2/right_hip_roll">
    <inertial>
      <mass value="2.5410"/>
      <inertia ixx="0.006434" ixy="0.0007087" ixz="-0.001543" iyy="0.009325" iyz="0.0008694" izz="0.006904"/>
      <origin rpy="0.0 0.0 0.0" xyz="0.03372 -0.02428 0.07903"/>
    </inertial>
    <visual>
      <geometry>
        <mesh filename="package://r2_description/meshes/r2c_legs/r2cl_ext_bone3.dae"/>
      </geometry>
      <origin rpy="0 0 0" xyz="0.0 0.0 0.0"/>
    </visual>
    <collision>
      <geometry>
        <mesh filename="package://r2_description/meshes/r2c_legs/r2cl_ext_bone3.dae"/>
      </geometry>
      <origin rpy="0 0 0" xyz="0.0 0.0 0.0"/>
    </collision>
  </link>
  <joint name="r2/right_leg/joint1" type="revolute">
    <parent link="r2/right_hip_roll"/>
    <child link="r2/right_hip_pitch"/>
    <origin rpy="-1.570796  -0.2617994 0.0000000" xyz="0.050629765 -0.0022860 0.103498576"/>
    <axis xyz="0 0 1"/>
    <dynamics damping="5.0" friction="0.0"/>
    <limit effort="330.0" lower="-1.42244" upper="1.20427" velocity="1.0"/>
    <traits spring_k="2.5"/>
  </joint>
  <link name="r2/right_hip_pitch">
    <inertial>
      <mass value="4.6734"/>
      <inertia ixx="0.01002" ixy="0.007194" ixz="0.002041" iyy="0.03307" iyz="-0.0007281" izz="0.03728"/>
      <origin rpy="0 0 0" xyz="0.09450 -0.03354 0.008185"/>
    </inertial>
    <visual>
      <geometry>
        <mesh filename="package://r2_description/meshes/r2c_legs/r2cl_ext_bone1.dae"/>
      </geometry>
      <origin rpy="0 0 0" xyz="0 0 0"/>
    </visual>
    <collision>
      <geometry>
        <mesh filename="package://r2_description/meshes/r2c_legs/r2cl_ext_bone1.dae"/>
      </geometry>
      <origin rpy="0 0 0" xyz="0 0 0"/>
    </collision>
  </link>
  <joint name="r2/right_leg/joint2" type="revolute">
    <parent link="r2/right_hip_pitch"/>
    <child link="r2/right_upper_leg"/>
    <origin rpy="-1.570796 0.0 -1.570796" xyz="0.200 -0.050 0.004"/>
    <axis xyz="0 0 1"/>
    <dynamics damping="5.0" friction="0.0"/>
    <limit effort="330.0" lower="-3.14159" upper="3.14159" velocity="1.0"/>
    <traits spring_k="2.5"/>
  </joint>
  <link name="r2/right_upper_leg">
    <inertial>
      <mass value="3.7745"/>
      <inertia ixx="0.02163" ixy="-0.001453" ixz="0.003137" iyy="0.01832" iyz="0.004738" izz="0.009798"/>
      <origin rpy="0 0 0" xyz="-0.01485 -0.02188 0.09676"/>
    </inertial>
    <visual>
      <geometry>
        <mesh filename="package://r2_description/meshes/r2c_legs/r2cl_ext_bone2.dae"/>
      </geometry>
      <origin rpy="0 0 0" xyz="0 0 0"/>
    </visual>
    <collision>
      <geometry>
        <mesh filename="package://r2_description/meshes/r2c_legs/r2cl_ext_bone2.dae"/>
      </geometry>
      <origin rpy="0 0 0" xyz="0 0 0.0"/>
    </collision>
  </link>
  <joint name="r2/right_leg/joint3" type="revolute">
    <parent link="r2/right_upper_leg"/>
    <child link="r2/right_knee"/>
    <origin rpy="0.0 -1.570796 3.14159" xyz="-0.00200 -0.050  0.157"/>
    <axis xyz="0 0 1"/>
    <dynamics damping="5.0" friction="0.0"/>
    <limit effort="330.0" lower="-0.10472" upper="2.68781" velocity="1.0"/>
    <traits spring_k="2.5"/>
  </joint>
  <link name="r2/right_knee">
    <inertial>
      <mass value="4.6734"/>
      <inertia ixx="0.01002" ixy="0.007194" ixz="0.002041" iyy="0.03307" iyz="-0.0007281" izz="0.03728"/>
      <origin rpy="0 0 0" xyz="0.09450 -0.03354 0.008185"/>
    </inertial>
    <visual>
      <geometry>
        <mesh filename="package://r2_description/meshes/r2c_legs/r2cl_ext_bone1.dae"/>
      </geometry>
      <origin rpy="0 0 0" xyz="0 0 0"/>
    </visual>
    <collision>
      <geometry>
        <mesh filename="package://r2_description/meshes/r2c_legs/r2cl_ext_bone1.dae"/>
      </geometry>
      <material name="gold"/>
      <origin rpy="0 0 0" xyz="0 0 0"/>
    </collision>
  </link>
  <joint name="r2/right_leg/joint4" type="revolute">
    <parent link="r2/right_knee"/>
    <child link="r2/right_lower_leg"/>
    <origin rpy="0 1.570796 0" xyz="0.200 -0.050 0.004"/>
    <axis xyz="0 0 1"/>
    <dynamics damping="5.0" friction="0.0"/>
    <limit effort="330.0" lower="-3.14159" upper="3.14159" velocity="1.0"/>
    <traits spring_k="2.5"/>
  </joint>
  <link name="r2/right_lower_leg">
    <inertial>
      <mass value="3.7745"/>
      <inertia ixx="0.02163" ixy="-0.001453" ixz="0.003137" iyy="0.01832" iyz="0.004738" izz="0.009798"/>
      <origin rpy="0 0 0" xyz="-0.01485 -0.02188 0.09676"/>
    </inertial>
    <visual>
      <geometry>
        <mesh filename="package://r2_description/meshes/r2c_legs/r2cl_ext_bone2.dae"/>
      </geometry>
      <origin rpy="0 0 0" xyz="0 0 0"/>
    </visual>
    <collision>
      <geometry>
        <mesh filename="package://r2_description/meshes/r2c_legs/r2cl_ext_bone2.dae"/>
      </geometry>
      <origin rpy="0 0 0" xyz="0 0 0.0"/>
    </collision>
  </link>
  <joint name="r2/right_leg/joint5" type="revolute">
    <parent link="r2/right_lower_leg"/>
    <child link="r2/right_ankle_pitch"/>
    <origin rpy="0.0 -1.570796 3.14159" xyz="-0.002 -0.050 0.157"/>
    <axis xyz="0 0 1"/>
    <dynamics damping="5.0" friction="0.0"/>
    <limit effort="330.0" lower="-0.10472" upper="2.68781" velocity="1.0"/>
    <traits spring_k="2.5"/>
  </joint>
  <link name="r2/right_ankle_pitch">
    <inertial>
      <mass value="4.6734"/>
      <inertia ixx="0.01002" ixy="0.007194" ixz="0.002041" iyy="0.03307" iyz="-0.0007281" izz="0.03728"/>
      <origin rpy="0 0 0" xyz="0.09450 -0.03354 0.008185"/>
    </inertial>
    <visual>
      <geometry>
        <mesh filename="package://r2_description/meshes/r2c_legs/r2cl_ext_bone1.dae"/>
      </geometry>
      <origin rpy="0 0 0" xyz="0 0 0"/>
    </visual>
    <collision>
      <geometry>
        <mesh filename="package://r2_description/meshes/r2c_legs/r2cl_ext_bone1.dae"/>
      </geometry>
      <origin rpy="0 0 0" xyz="0 0 0"/>
    </collision>
  </link>
  <joint name="r2/right_leg/joint6" type="revolute">
    <parent link="r2/right_ankle_pitch"/>
    <child link="r2/right_ankle_roll"/>
    <origin rpy="3.14159 -1.570796 0 " xyz="0.199643 -0.0508 0.00325"/>
    <axis xyz="0 0 1"/>
    <dynamics damping="5.0" friction="0.0"/>
    <limit effort="330.0" lower="-3.14159" upper="3.14159" velocity="1.0"/>
    <traits spring_k="2.5"/>
  </joint>
  <link name="r2/right_ankle_roll">
    <inertial>
      <mass value="1.4461"/>
      <inertia ixx="0.001780" ixy="0.00001801" ixz="0.0000002218" iyy="0.001767" iyz="0.0000006717" izz="0.002949"/>
      <origin rpy="0 0 0" xyz="-0.00004402 0.0001052 0.02940"/>
    </inertial>
    <visual>
      <geometry>
        <cylinder length=".06" radius=".066"/>
      </geometry>
      <material name="dirty_white"/>
      <origin rpy="0 0 0" xyz="0 0 0.025"/>
    </visual>
    <collision>
      <geometry>
        <cylinder length=".06" radius=".066"/>
      </geometry>
      <origin rpy="0 0 0" xyz="0 0 0.025"/>
    </collision>
  </link>
  <joint name="r2/fixed/right_ankle_roll/right_leg_ati" type="fixed">
    <parent link="r2/right_ankle_roll"/>
    <child link="r2/right_leg/ati"/>
    <origin rpy="3.1416 0.0 -1.5708" xyz="0.0 0.0 0.070182"/>
  </joint>
  <link name="r2/right_leg/ati">
    <inertial>
      <mass value="0.01"/>
      <inertia ixx="0.0001" ixy="0.0" ixz="0.0" iyy="0.0001" iyz="0.0" izz="0.0001"/>
    </inertial>
  </link>
  <joint name="r2/fixed/right_leg_ati/right_leg_foot" type="fixed">
    <parent link="r2/right_leg/ati"/>
    <child link="r2/right_leg_foot"/>
    <origin rpy="3.1416 0.0 -1.5708" xyz="0.0 0.0 0.0206502"/>
  </joint>
  <link name="r2/right_leg_foot">
    <inertial>
      <mass value="4.63812"/>
      <inertia ixx="0.01951" ixy="-0.00030332" ixz="-0.00011945" iyy="0.017896" iyz="-0.000689634" izz="0.010101"/>
      <origin rpy="0 0 0" xyz="-0.0015 -0.00021835 0.08493"/>
    </inertial>
    <visual>
      <geometry>
        <mesh filename="package://r2_description/meshes/r2c_legs/foot_body.dae"/>
      </geometry>
      <origin rpy="0 0 -1.5708" xyz="0 0 0"/>
    </visual>
    <collision>
      <geometry>
        <mesh filename="package://r2_description/meshes/r2c_legs/foot_body.dae"/>
      </geometry>
      <origin rpy="0 0 -1.5708" xyz="0 0 0"/>
    </collision>
  </link>
  <joint name="r2/fixed/right_leg_foot/right_hr_tip" type="fixed">
    <parent link="r2/right_leg_foot"/>
    <child link="r2/right_leg/gripper/tip"/>
    <origin rpy="0.0 0 0" xyz="0 0 0.19451"/>
  </joint>
  <link name="r2/right_leg/gripper/tip">
    <inertial>
      <mass value="0.01"/>
      <inertia ixx="0.0001" ixy="0.0" ixz="0.0" iyy="0.0001" iyz="0.0" izz="0.0001"/>
    </inertial>
  </link>
  <joint name="r2/fixed/right_leg_foot/right_st_tip" type="fixed">
    <parent link="r2/right_leg_foot"/>
    <child link="r2/right_leg/gripper/st_tip"/>
    <origin rpy="0.0 0 0" xyz="0 0 0.21991"/>
  </joint>
  <link name="r2/right_leg/gripper/st_tip">
    <inertial>
      <mass value="0.01"/>
      <inertia ixx="0.0001" ixy="0.0" ixz="0.0" iyy="0.0001" iyz="0.0" izz="0.0001"/>
    </inertial>
  </link>
  <joint name="r2/fixed/right_leg_foot/right_leg_nano_physical" type="fixed">
    <parent link="r2/right_leg_foot"/>
    <child link="r2/right_leg/nano_physical"/>
    <origin rpy="0 0 0" xyz="-0.025 .07 0.13"/>
  </joint>
  <link name="r2/right_leg/nano_physical">
    <inertial>
      <mass value="0.01"/>
      <inertia ixx="0.0001" ixy="0.0" ixz="0.0" iyy="0.0001" iyz="0.0" izz="0.0001"/>
    </inertial>
  </link>
  <joint name="r2/fixed/right_leg_foot/right_leg_flea_physical" type="fixed">
    <parent link="r2/right_leg_foot"/>
    <child link="r2/right_leg/flea_physical"/>
    <origin rpy="0.0 0 0" xyz="0.025 .07 0.13"/>
  </joint>
  <link name="r2/right_leg/flea_physical">
    <inertial>
      <mass value="0.01"/>
      <inertia ixx="0.0001" ixy="0.0" ixz="0.0" iyy="0.0001" iyz="0.0" izz="0.0001"/>
    </inertial>
  </link>
</robot>
